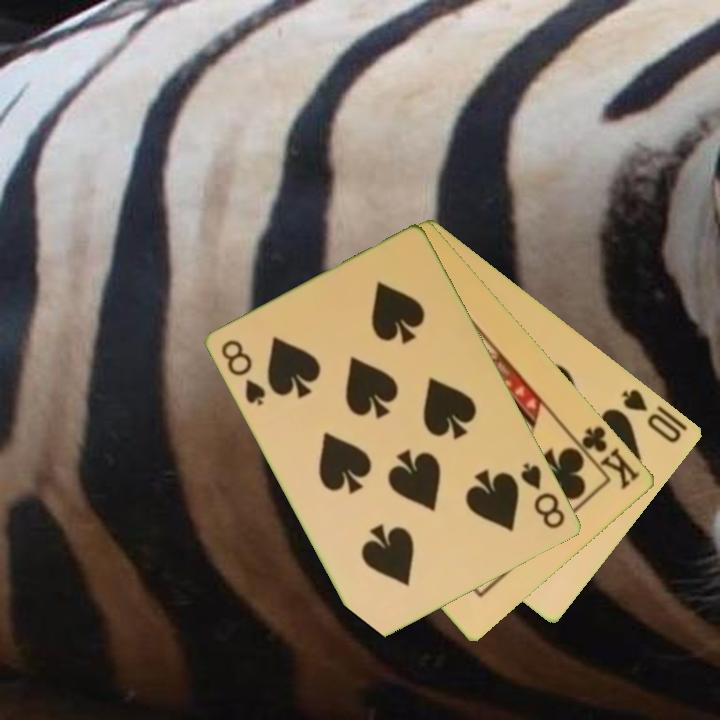10s: (618, 385, 685, 446)
8s: (517, 459, 569, 532), (218, 336, 270, 409)
Kc: (570, 422, 644, 493)
